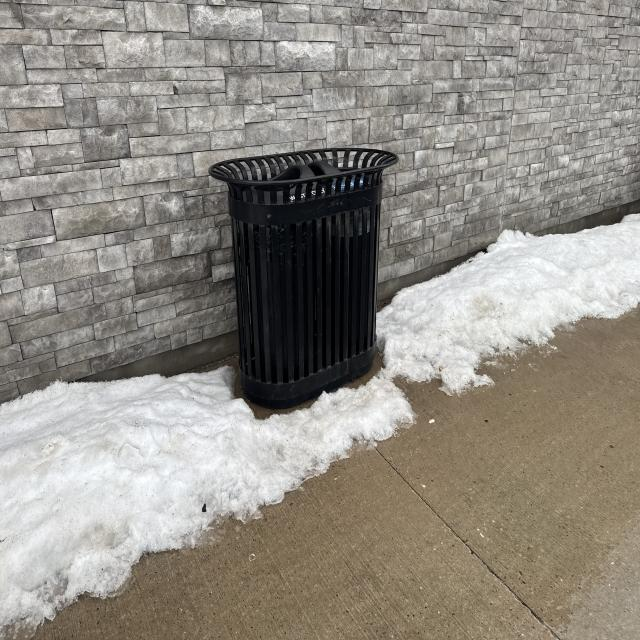Dustbin: (209, 147, 398, 415)
